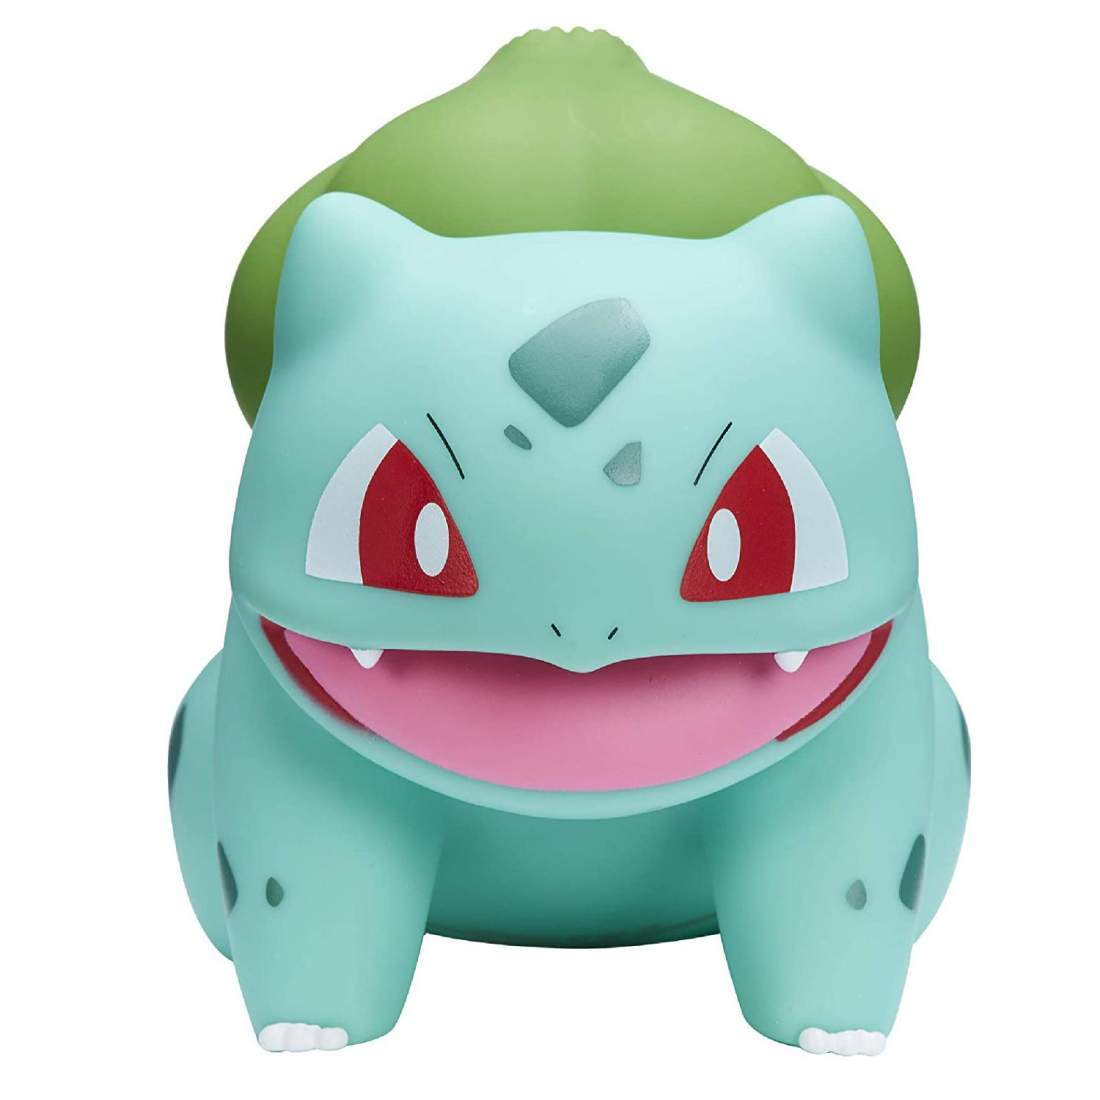001-bulbasaur: (148, 33, 1007, 1065)
